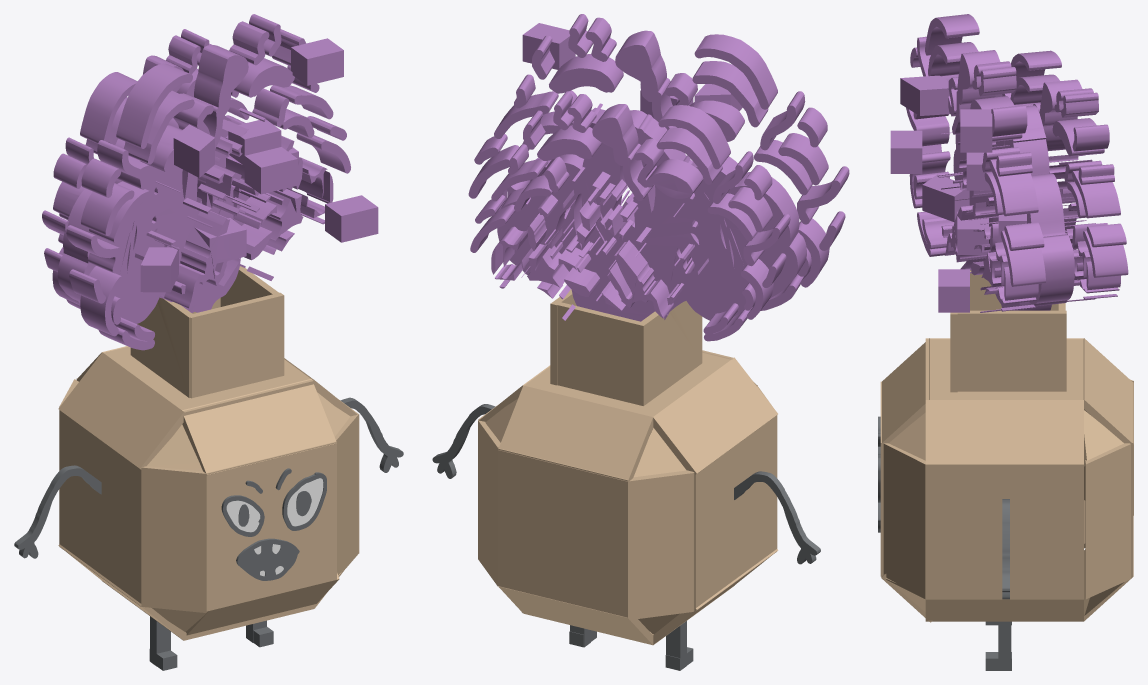
Rendered from 3Level-1.fbx.
3 renders of one model, left to right at view 1: azimuth 30°, elevation 25°; view 2: azimuth 150°, elevation 25°; view 3: azimuth 270°, elevation 25°, orthographic. The views are drawn at different scales.
Parts seen in each view (by area): view 1: obj_0.002; view 2: obj_0.002; view 3: obj_0.002.
Part boxes in pixels (x1,y1,x2,y2): obj_0.002: (14, 14, 403, 670); obj_0.002: (432, 14, 849, 670); obj_0.002: (878, 14, 1133, 670).
Bounding box in the file's own units: 13622 × 20934 × 8073.
